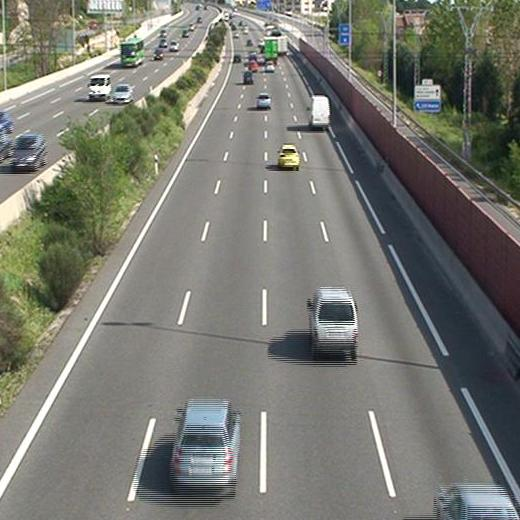car: (171, 398, 237, 486), (278, 145, 300, 167), (256, 92, 271, 109), (242, 71, 255, 83), (247, 61, 257, 71), (264, 61, 274, 70)
van: (310, 289, 358, 352), (309, 96, 331, 128)
